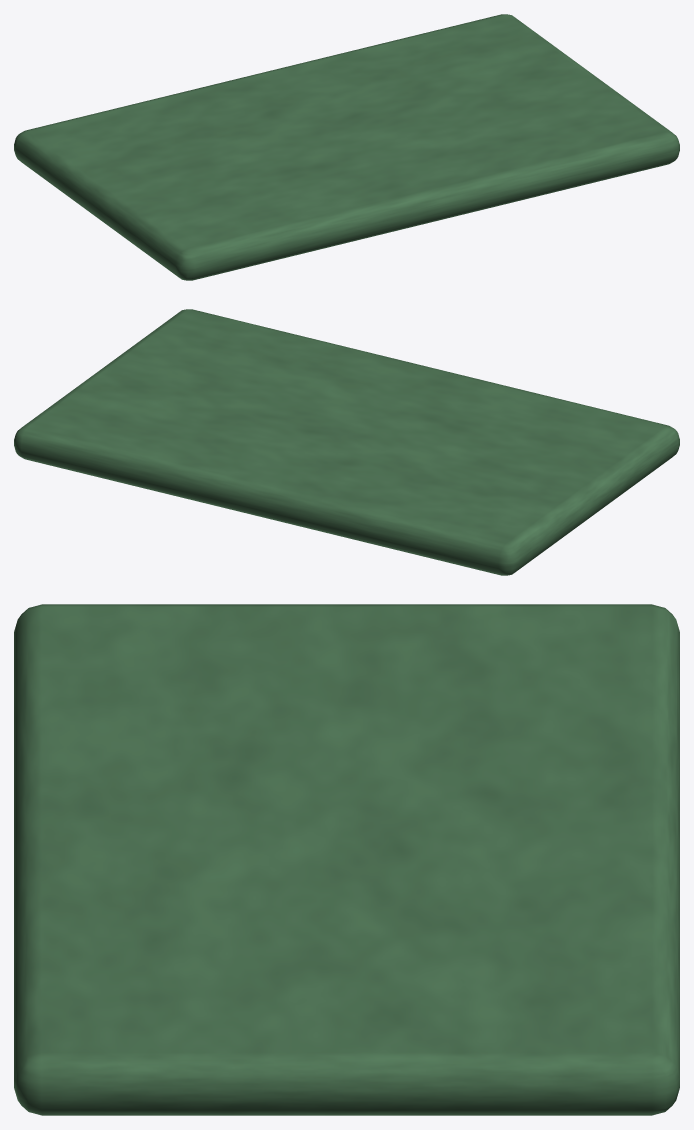
File: Furn_GymMat.fbx
The picture shows the model from 3 angles, top to bottom: view 1: azimuth 30°, elevation 25°; view 2: azimuth 150°, elevation 25°; view 3: azimuth 270°, elevation 25°; orthographic projection. The views are drawn at different scales.
Parts seen in each view (by area): view 1: Furn_GymMat_Mesh; view 2: Furn_GymMat_Mesh; view 3: Furn_GymMat_Mesh.
Part boxes in pixels (<box>): Furn_GymMat_Mesh: <box>14,14,679,280</box>; Furn_GymMat_Mesh: <box>14,309,679,575</box>; Furn_GymMat_Mesh: <box>14,604,679,1115</box>.
Size of the model in its own units: 2 by 0.12 by 1.2.
Materials: 1 (1 with a texture image).
